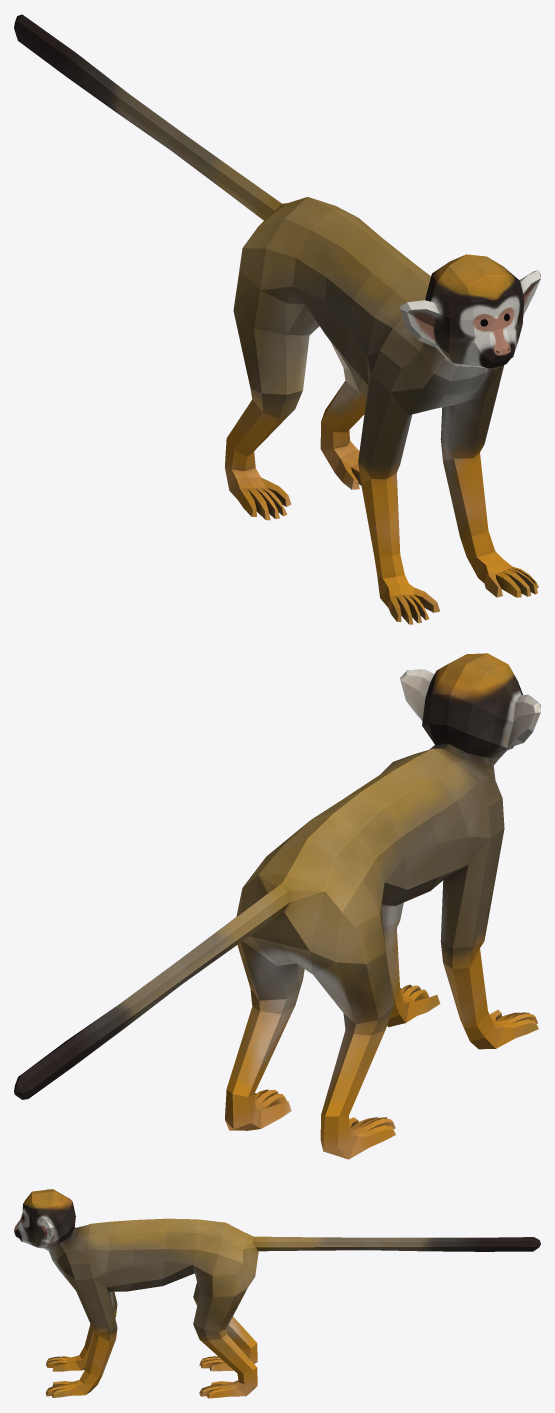
3 renders of one model, top to bottom at view 1: azimuth 30°, elevation 25°; view 2: azimuth 150°, elevation 25°; view 3: azimuth 270°, elevation 25°, orthographic. The views are drawn at different scales.
Visible parts, largest first — view 1: SquirrelMonkey_Mesh; view 2: SquirrelMonkey_Mesh; view 3: SquirrelMonkey_Mesh.
Boxes of the visible parts, <box> form: SquirrelMonkey_Mesh: <box>14,14,540,624</box>; SquirrelMonkey_Mesh: <box>14,653,540,1159</box>; SquirrelMonkey_Mesh: <box>14,1188,540,1398</box>.
Size of the model in its own units: 1.52 by 3.53 by 8.89.
1 material, 1 textured.
